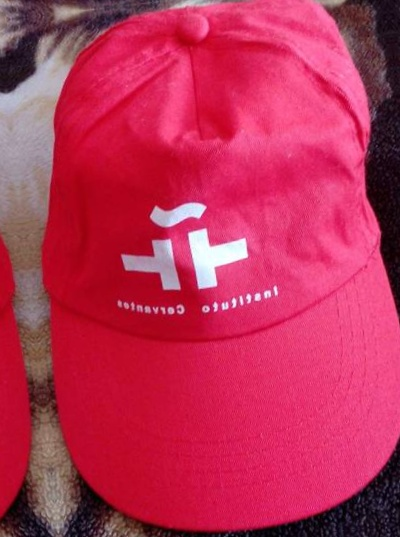Hat: (2, 0, 400, 537), (0, 21, 55, 537), (0, 0, 367, 20)
